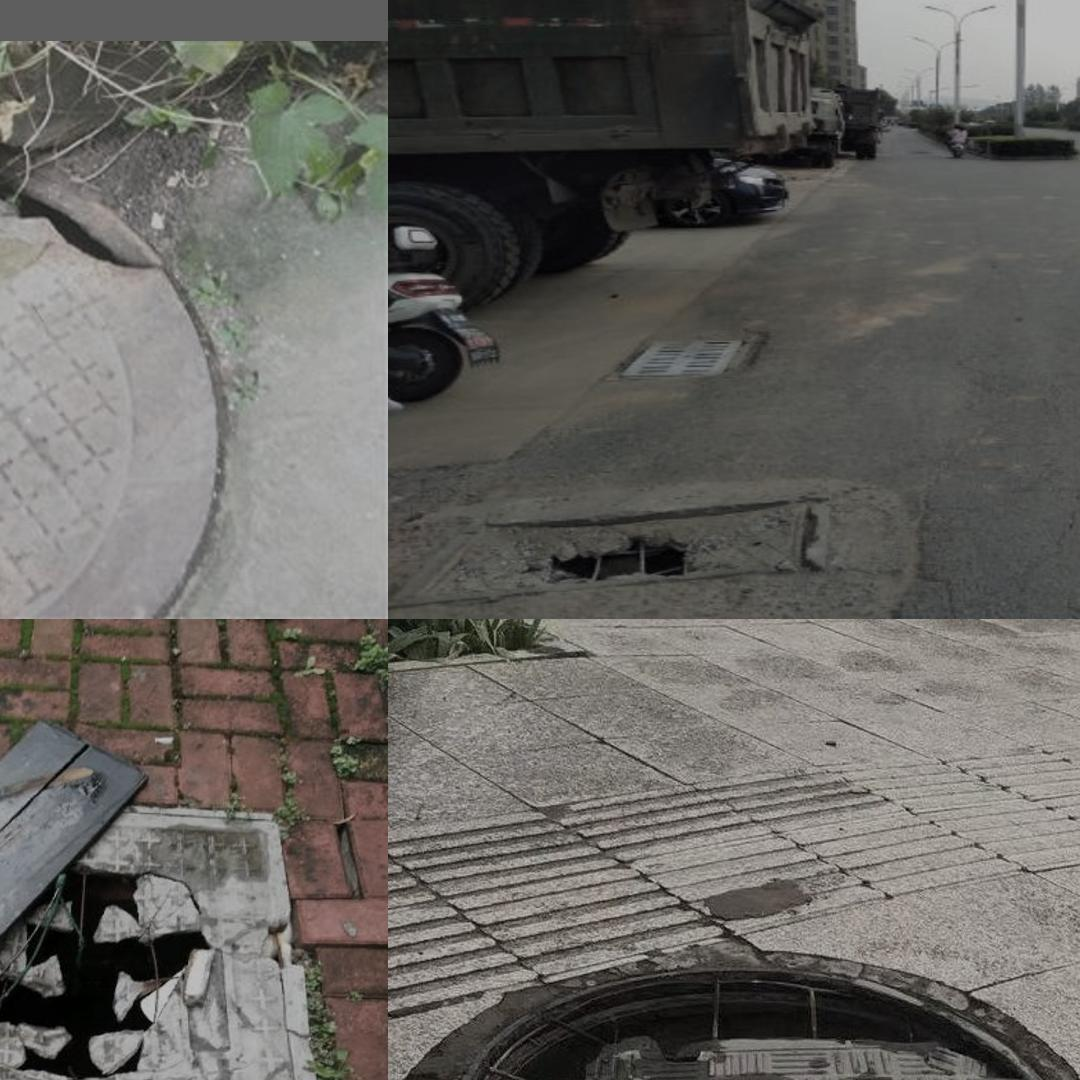broke: (0, 144, 285, 619), (0, 761, 337, 1080), (449, 961, 1074, 1080), (410, 479, 834, 597)
